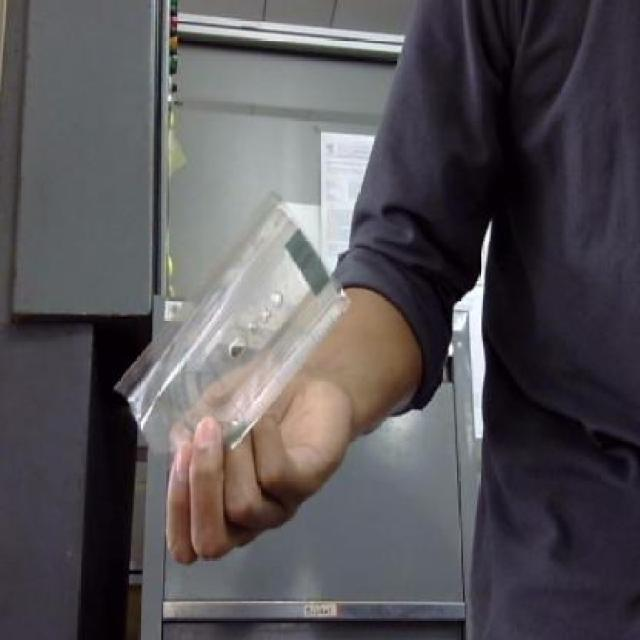Plastic: (95, 185, 355, 472)
